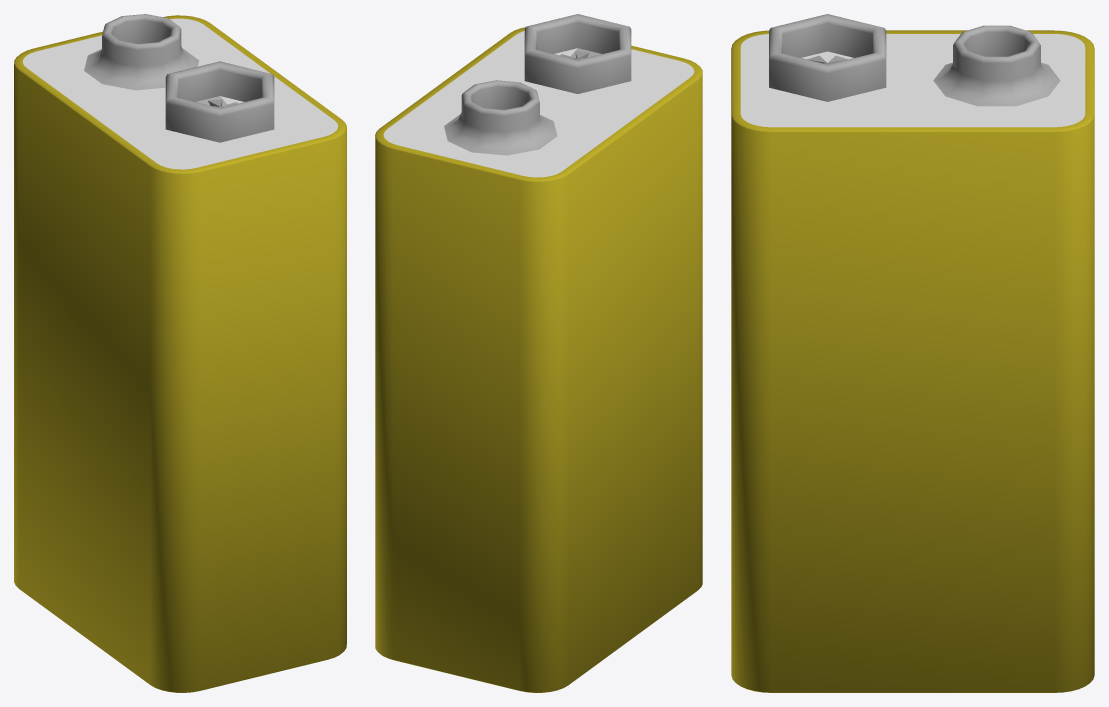
File: battery.fbx
The picture shows the model from 3 angles, left to right: view 1: azimuth 30°, elevation 25°; view 2: azimuth 150°, elevation 25°; view 3: azimuth 270°, elevation 25°; orthographic projection. The views are drawn at different scales.
Parts seen in each view (by area): view 1: Krona Battery Body; view 2: Krona Battery Body; view 3: Krona Battery Body.
Boxes of the visible parts, x1,y1,x2,y2 form: Krona Battery Body: (14,14,346,692); Krona Battery Body: (375,14,702,692); Krona Battery Body: (731,14,1094,692).
Bounding box in the file's own units: 5.25 × 14.55 × 7.95.
